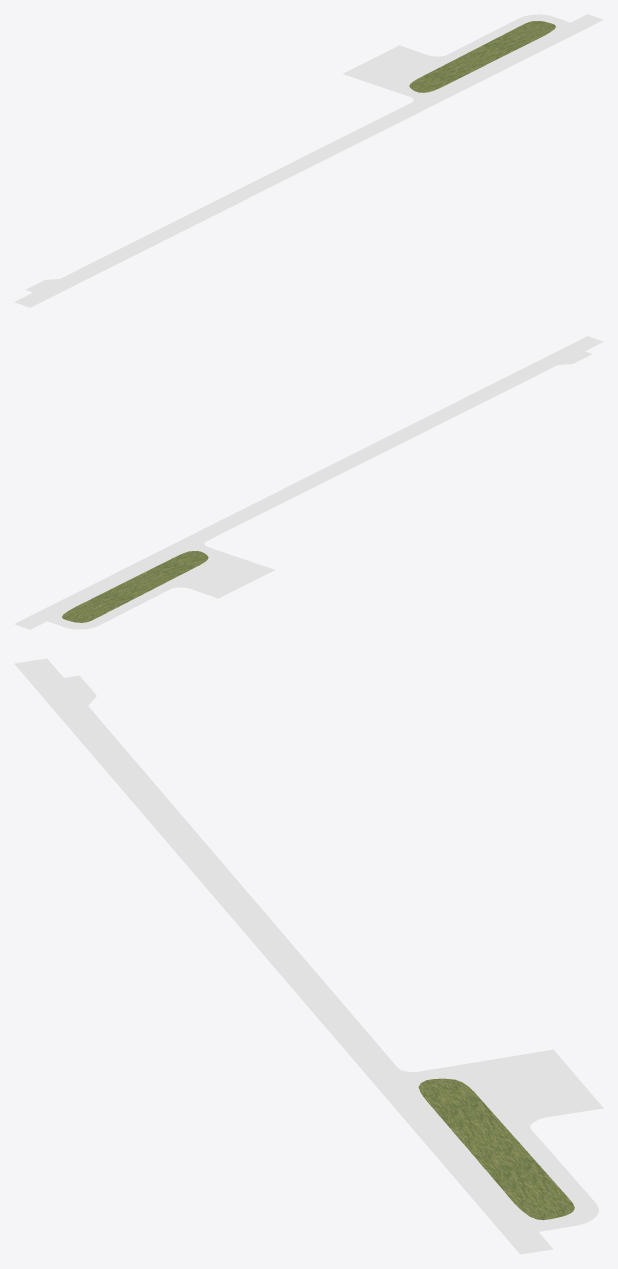
File: grass.glb
3 renders of one model, top to bottom at view 1: azimuth 30°, elevation 25°; view 2: azimuth 210°, elevation 25°; view 3: azimuth 270°, elevation 25°, orthographic. The views are drawn at different scales.
Parts seen in each view (by area): view 1: node7, Plane.006; view 2: node7, Plane.006; view 3: node7, Plane.006.
Part boxes in pixels (x1,y1,x2,y2): node7: (14,14,603,307); Plane.006: (409,21,555,92); node7: (14,336,603,629); Plane.006: (62,551,208,622); node7: (14,658,603,1254); Plane.006: (418,1078,574,1219).
Size of the model in its own units: 1849 by 0.6 by 773.
2 materials, 1 textured.
